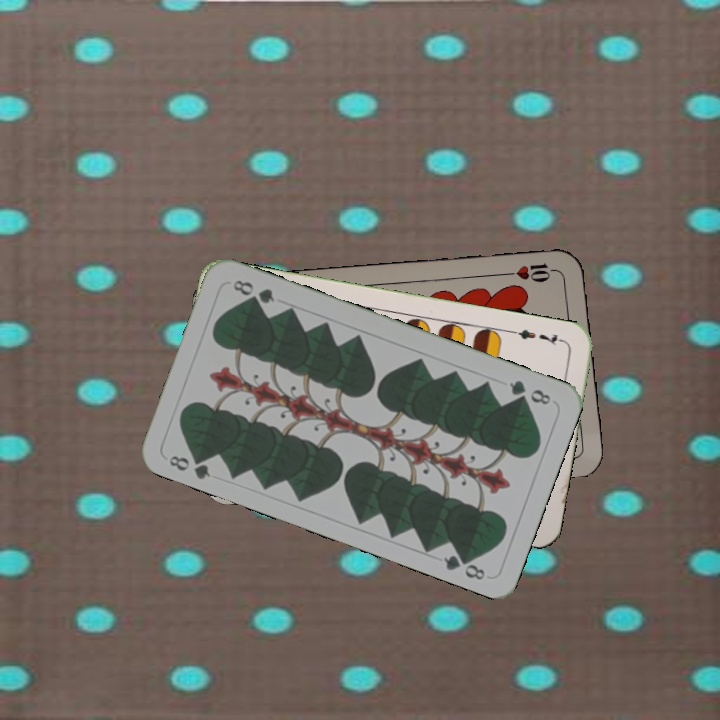E7: (509, 325, 567, 348)
G8: (165, 449, 213, 482), (505, 376, 554, 408)
H10: (503, 259, 562, 285)
